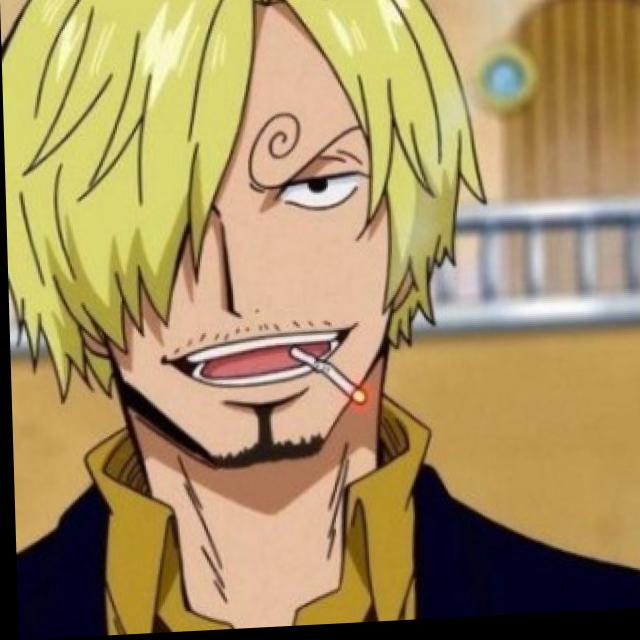Sangdi: (0, 0, 457, 479)
